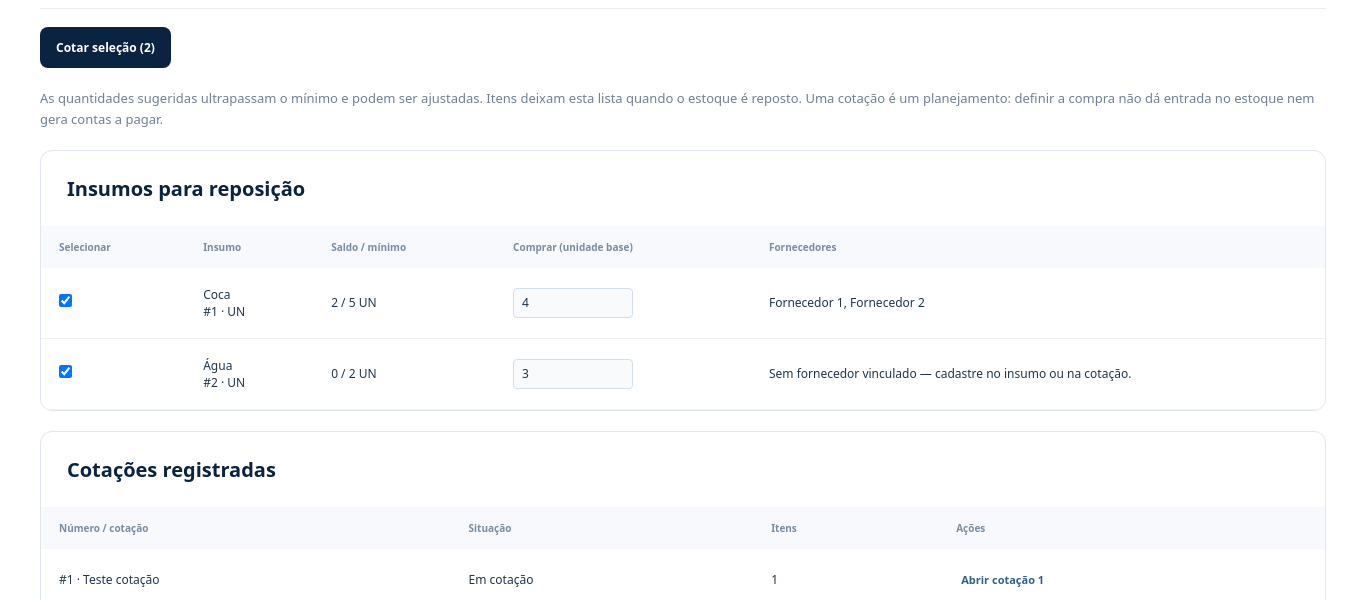
Test: requires saving changes before deciding and uses freight in the total strategy
(page scrolled)
Click the button "Abrir cotação 1" at [1003, 579], box [956,567,1049,592]
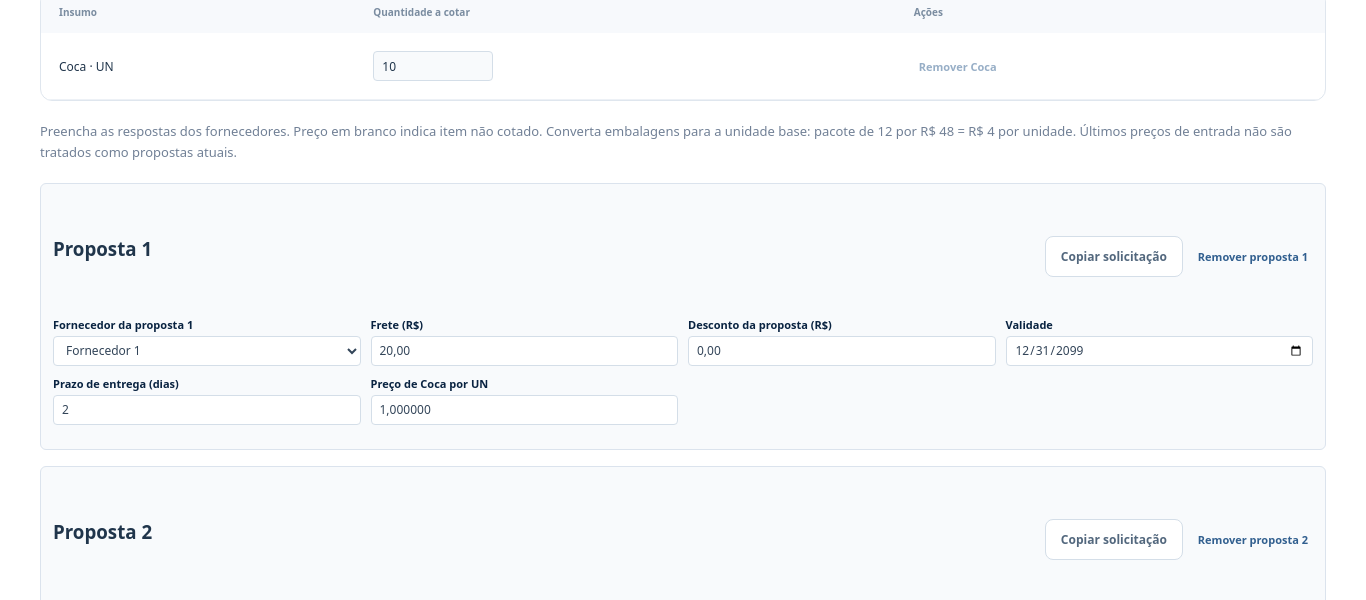
Replace the text in the number field named "Quantidade cotada de Coca" with "5" at [433, 66], box [373,51,493,81]
(page scrolled)
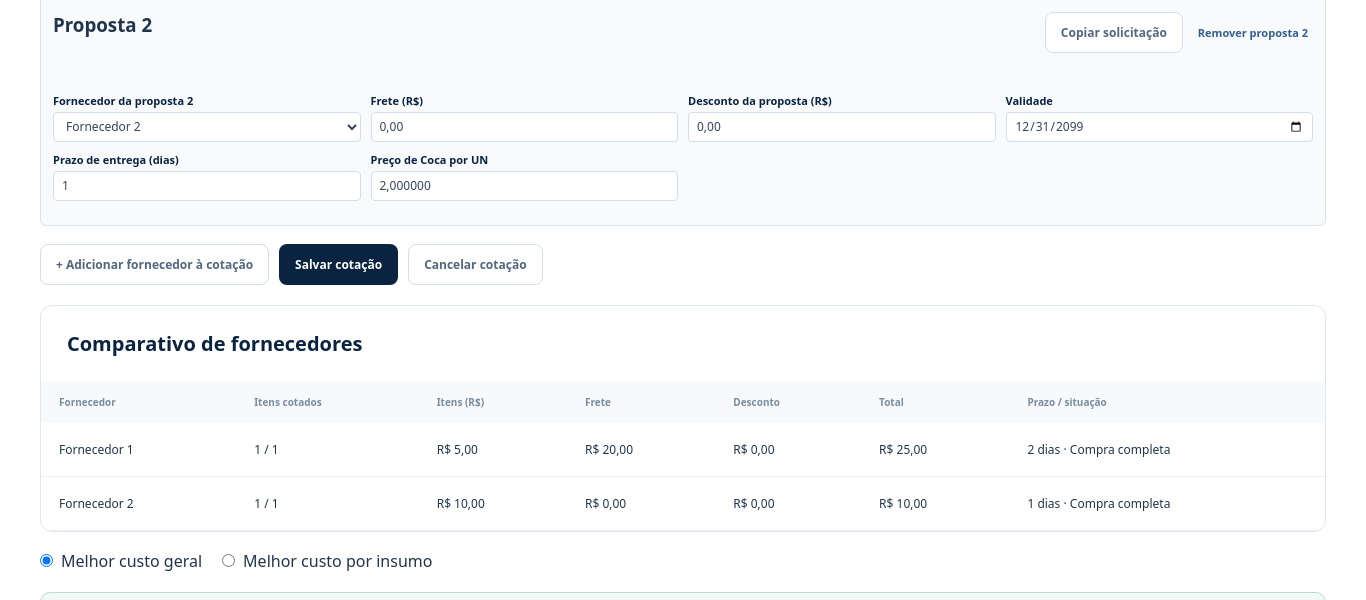
Click the button "Salvar cotação" at [339, 264], box [279,244,398,285]
(page scrolled)
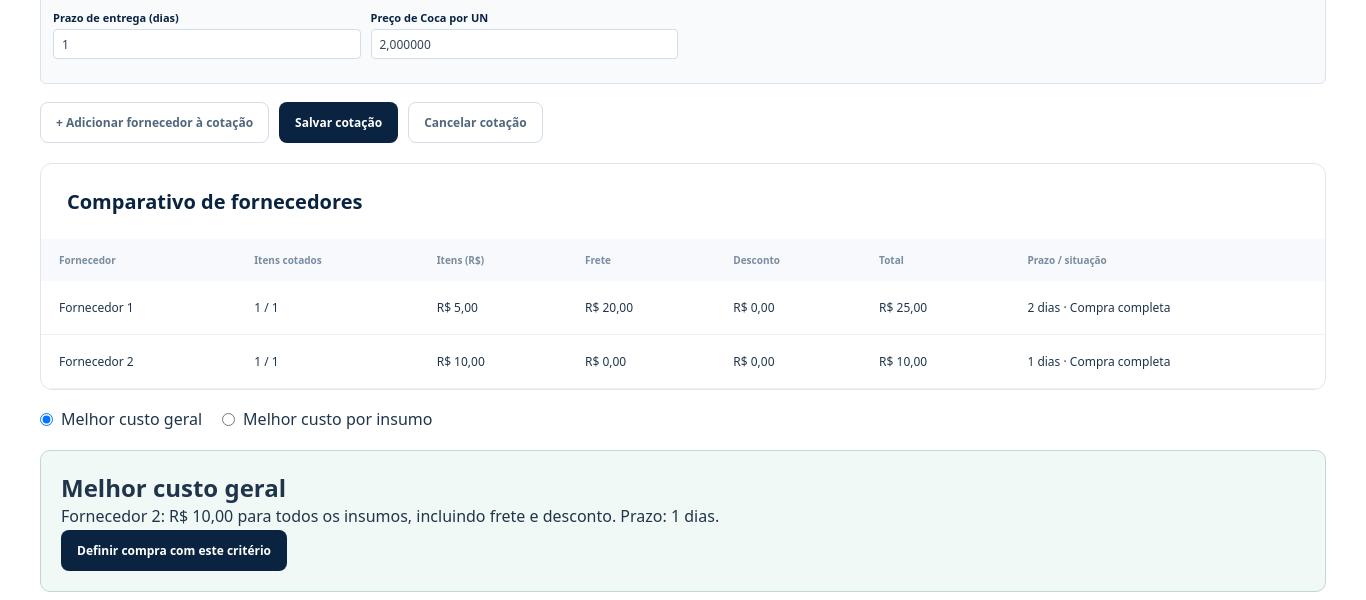
Now the button "Definir compra com este critério" is enabled, box [61,530,287,571]
